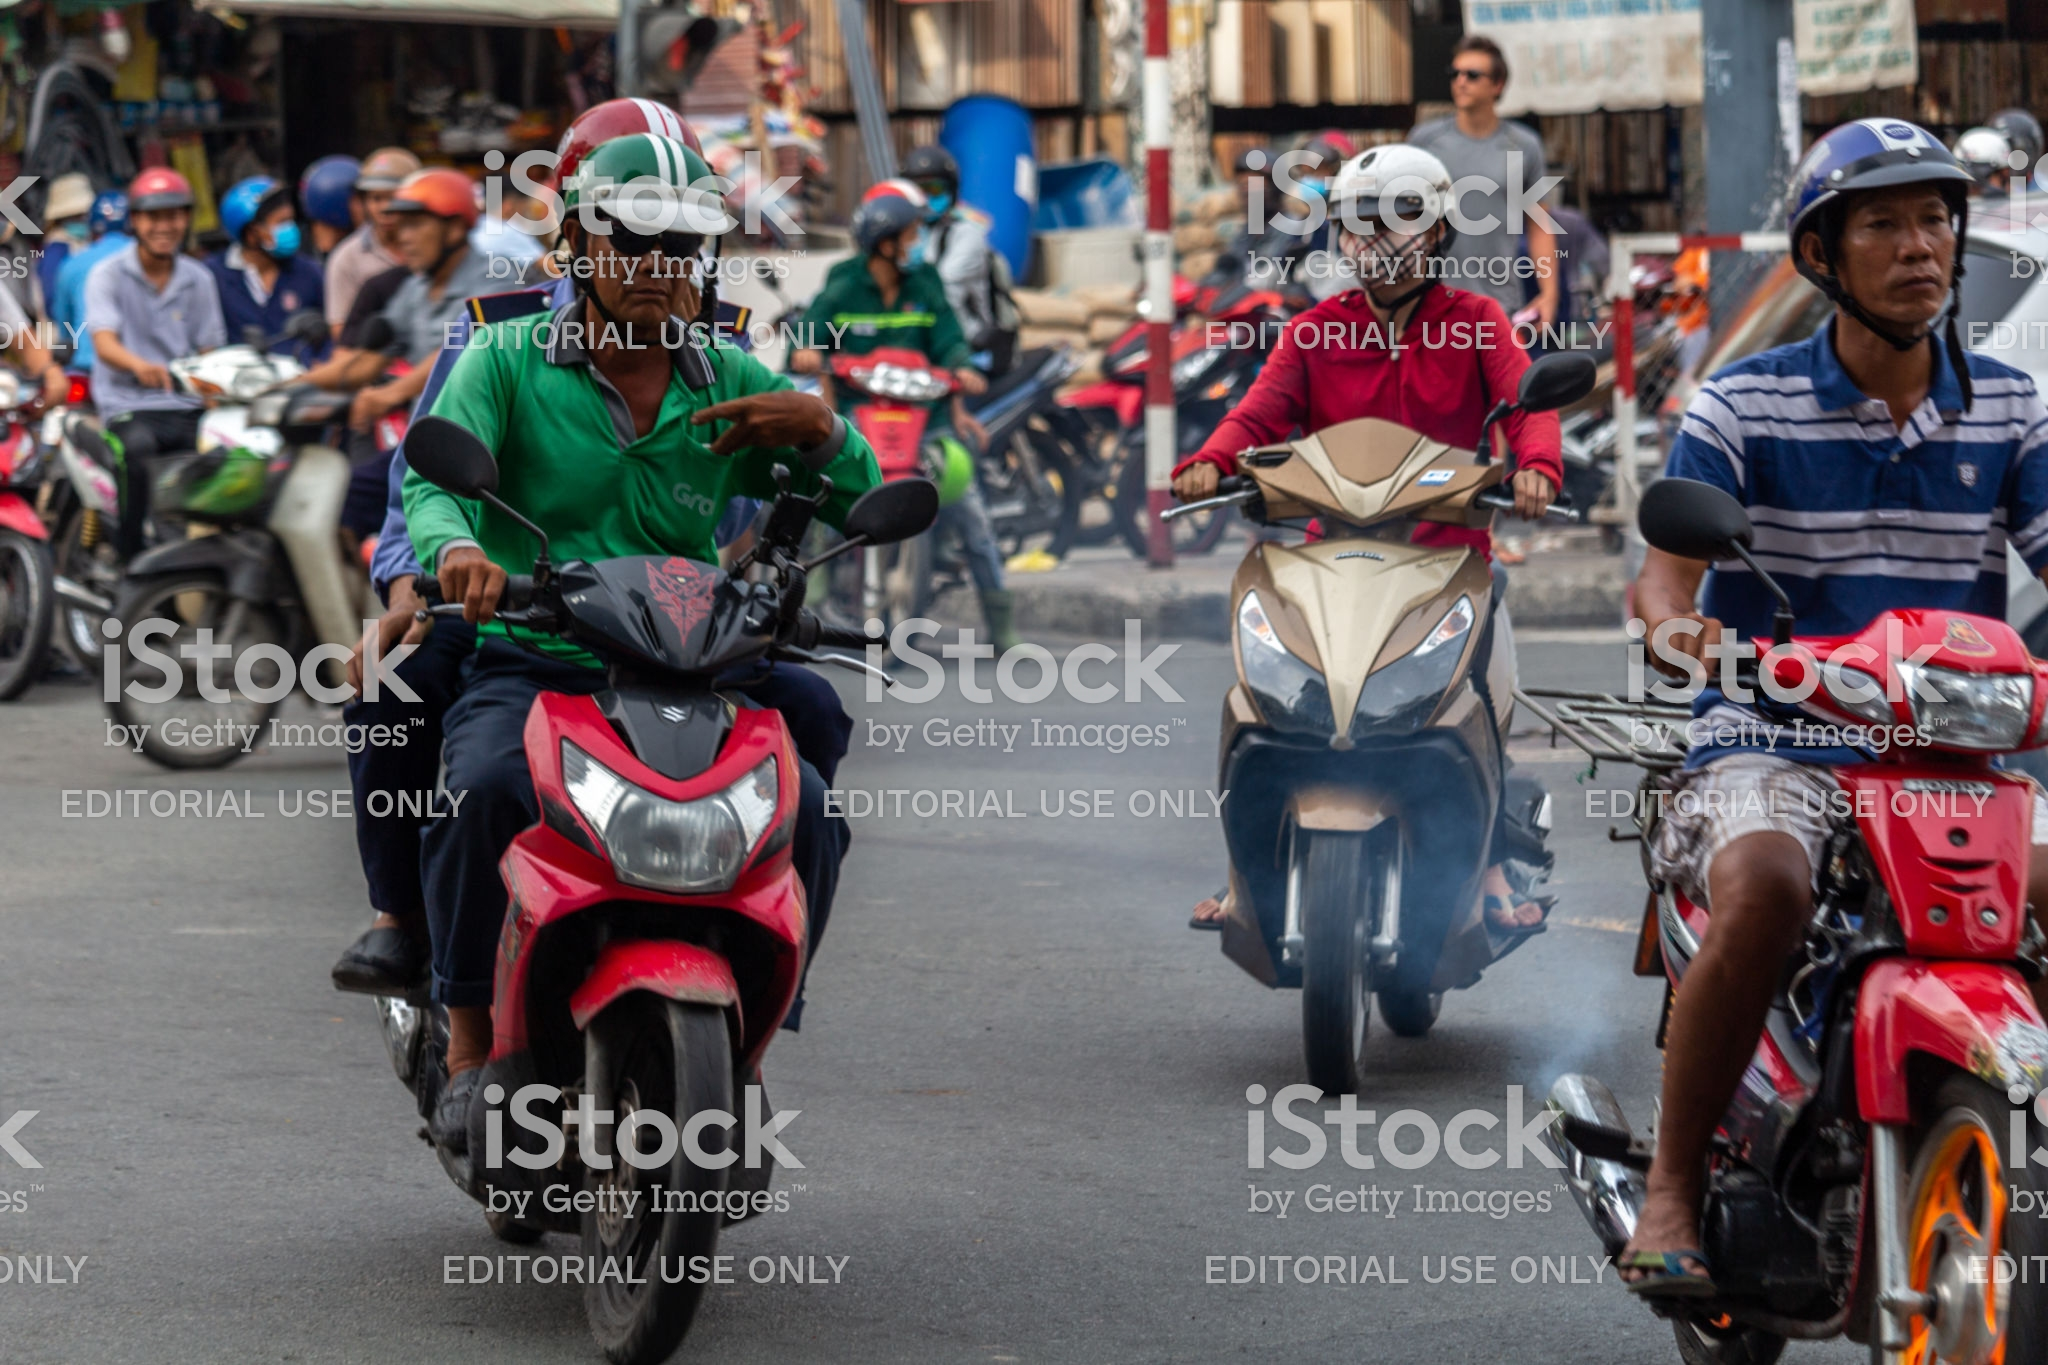helmet: (1753, 91, 1984, 204), (585, 125, 722, 215), (1326, 136, 1453, 221)
